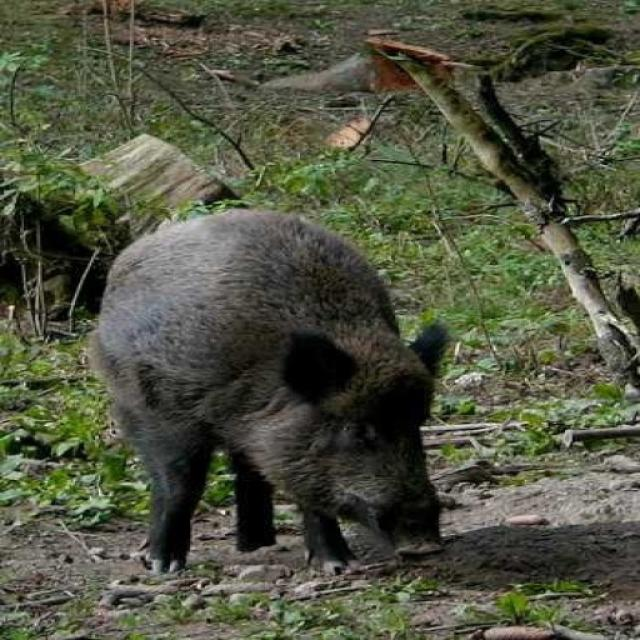pig: (90, 208, 463, 573)
